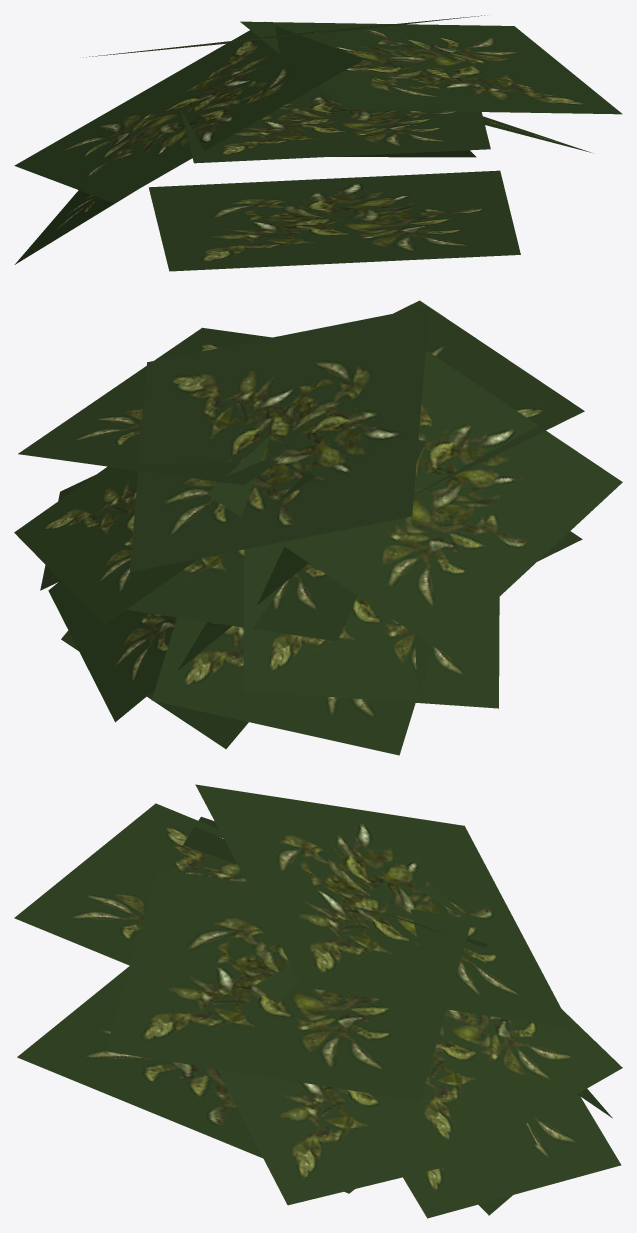
The model's file is tree_k005.FBX.
3 renders of one model, top to bottom at view 1: azimuth 30°, elevation 25°; view 2: azimuth 150°, elevation 25°; view 3: azimuth 270°, elevation 25°, orthographic. The views are drawn at different scales.
Parts seen in each view (by area): view 1: tree_k005; view 2: tree_k005; view 3: tree_k005.
Boxes of the visible parts, x1,y1,x2,y2 form: tree_k005: [14, 15, 622, 271]; tree_k005: [14, 300, 622, 755]; tree_k005: [14, 784, 622, 1218].
Size of the model in its own units: 4.95 by 2.86 by 4.66.
1 material, 1 textured.
